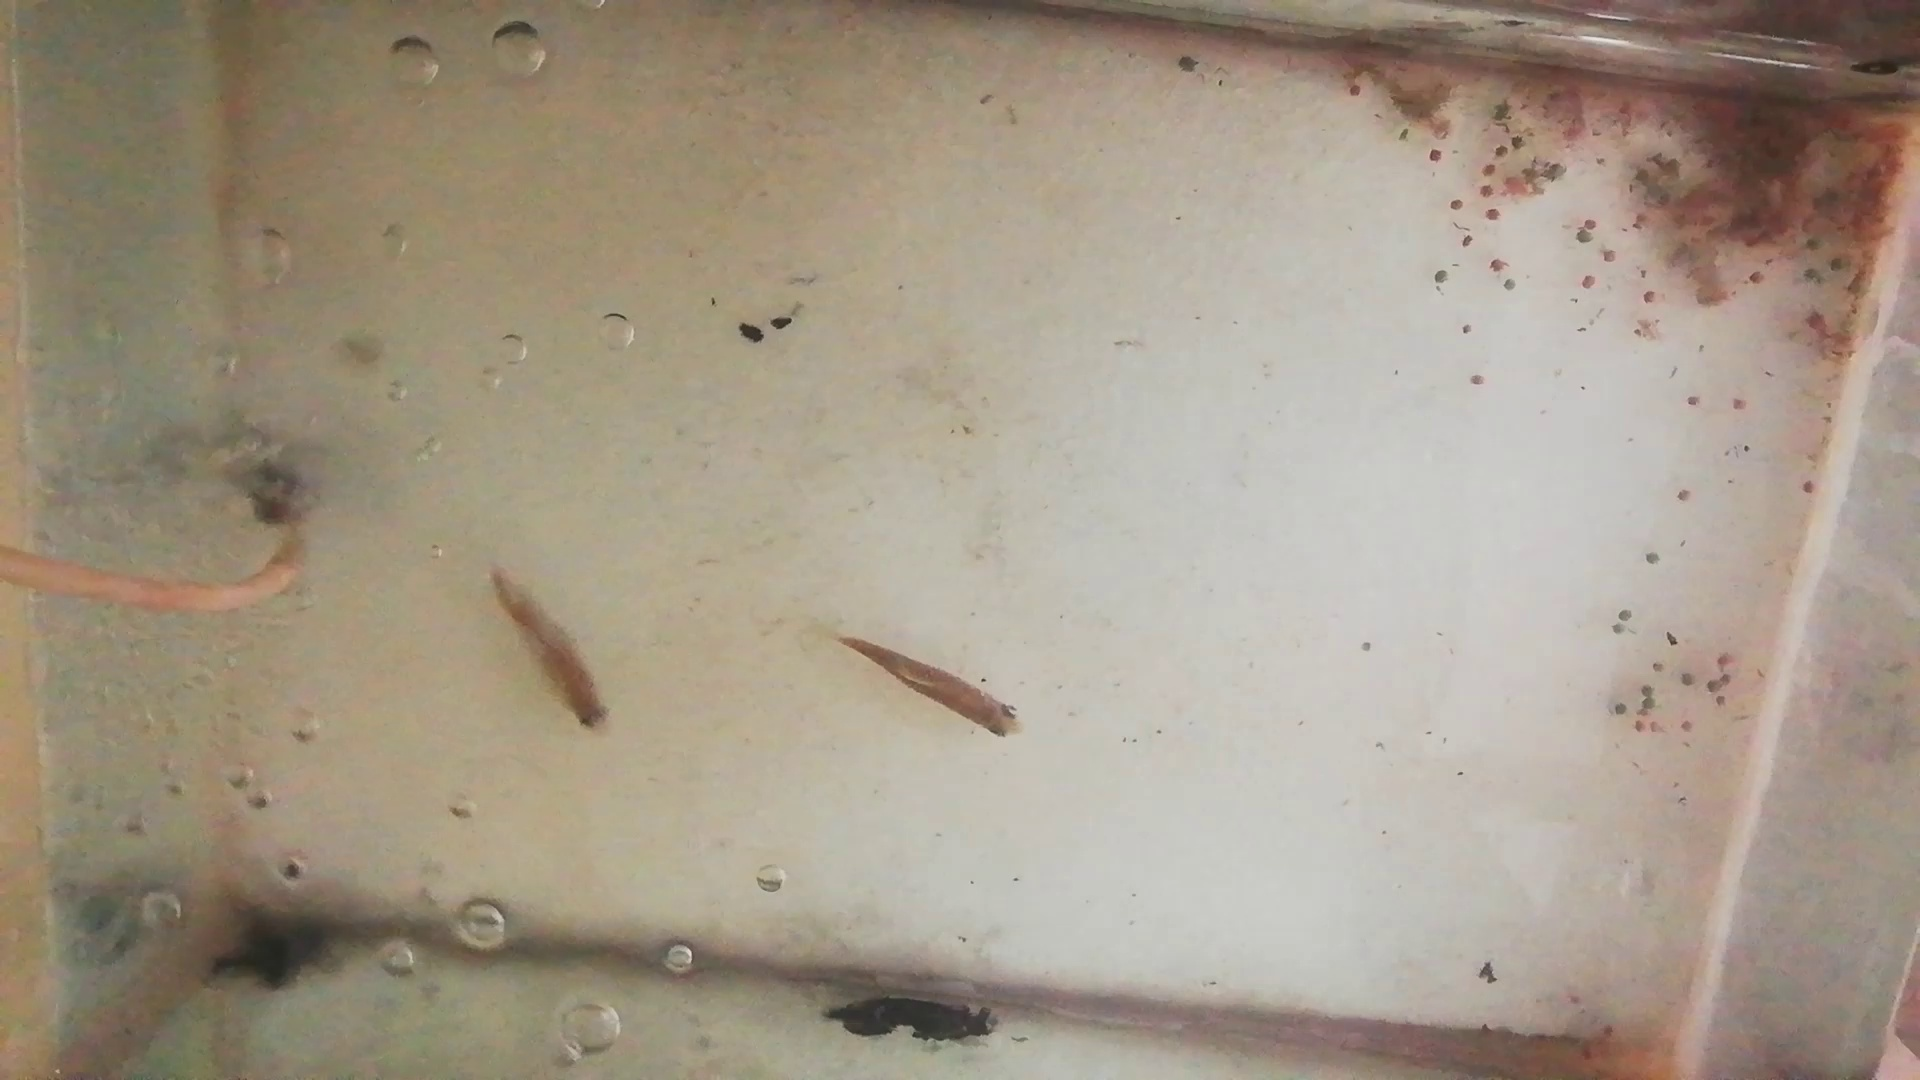fish: (484, 570, 622, 741), (840, 644, 1030, 742)
